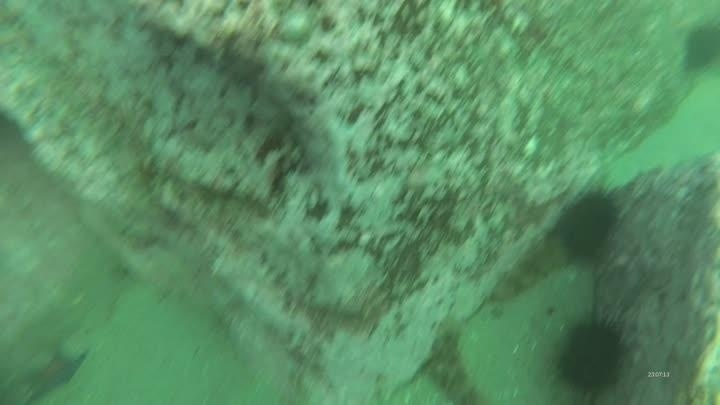echinus: (548, 307, 635, 403), (551, 183, 625, 266), (679, 19, 720, 76)
holothurian: (487, 236, 572, 305), (426, 320, 483, 405)
starfish: (19, 343, 93, 403)
